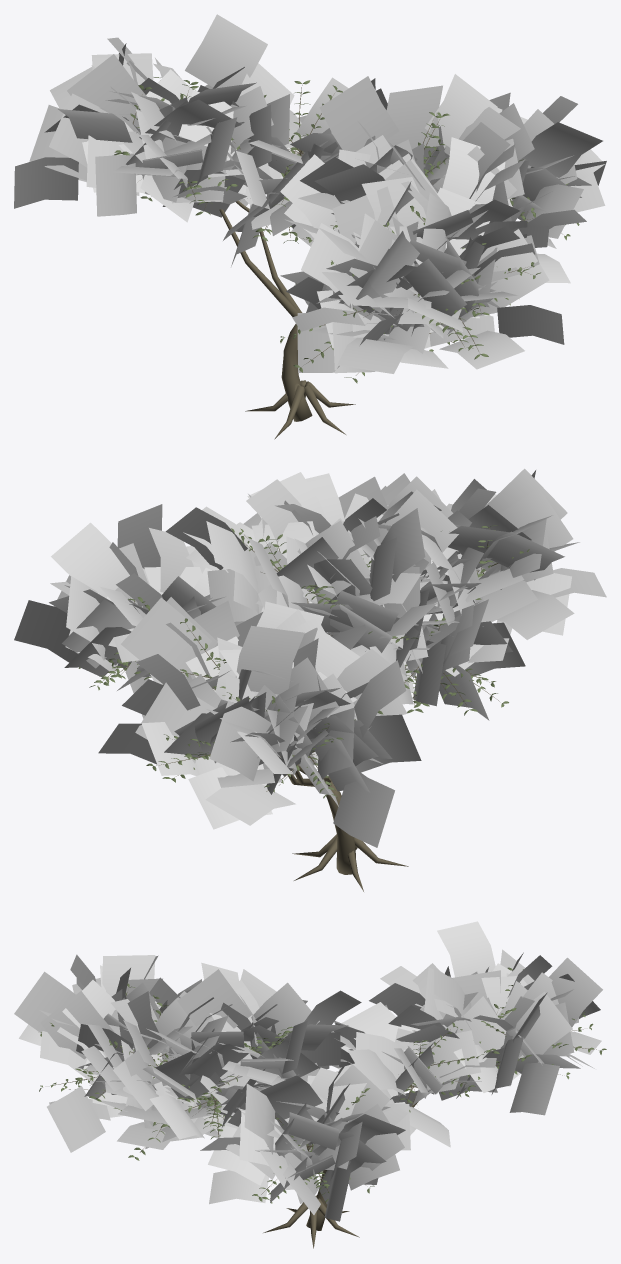
The model's file is Oleastre_Etale_LOD0.fbx.
3 renders of one model, top to bottom at view 1: azimuth 30°, elevation 25°; view 2: azimuth 150°, elevation 25°; view 3: azimuth 270°, elevation 25°, orthographic. The views are drawn at different scales.
Parts seen in each view (by area): view 1: Oleastre_Etale; view 2: Oleastre_Etale; view 3: Oleastre_Etale.
Part boxes in pixels (<box>): Oleastre_Etale: <box>14,14,606,439</box>; Oleastre_Etale: <box>14,468,606,891</box>; Oleastre_Etale: <box>14,921,606,1248</box>.
Bounding box in the file's own units: 587 × 372 × 729.
